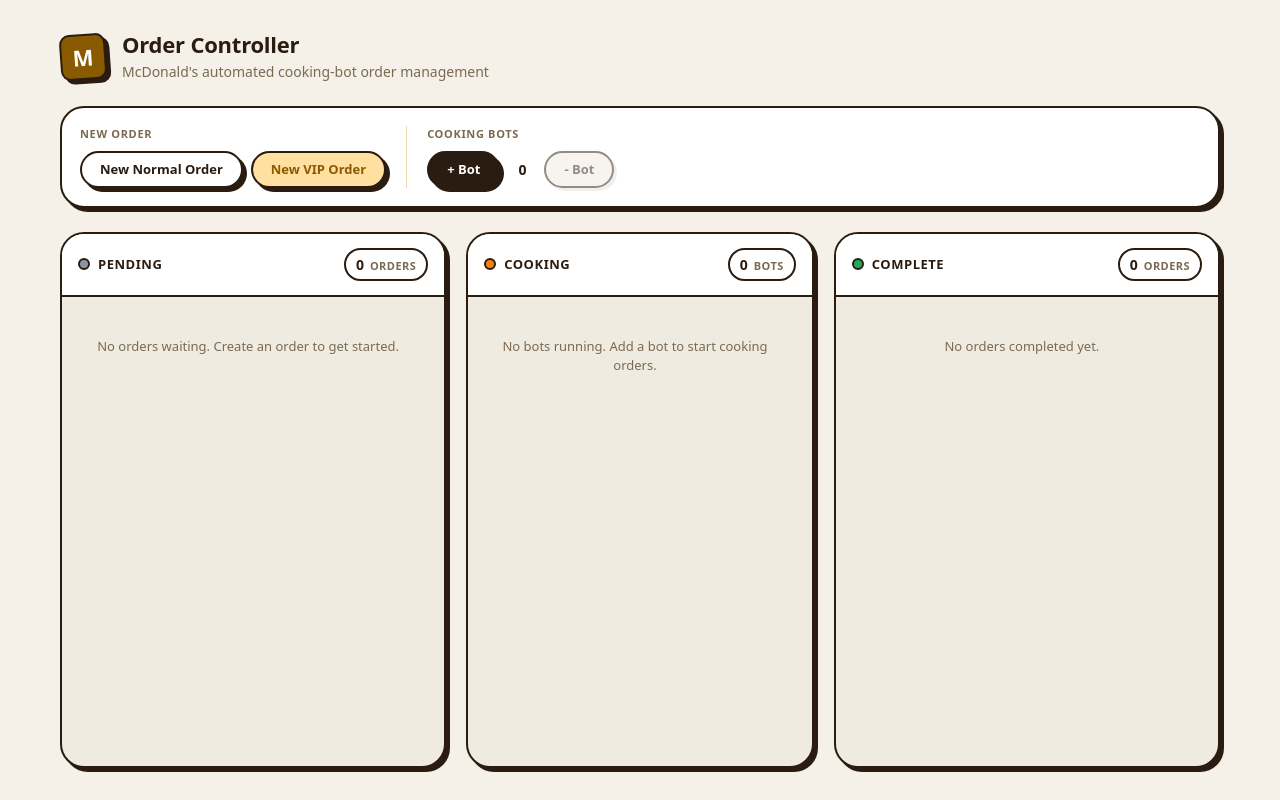
HomePage (end-to-end wiring) › shows a VIP order ahead of an earlier Normal order in PENDING
Click the button "New Normal Order": (161, 169) 80,151 -> 243,188
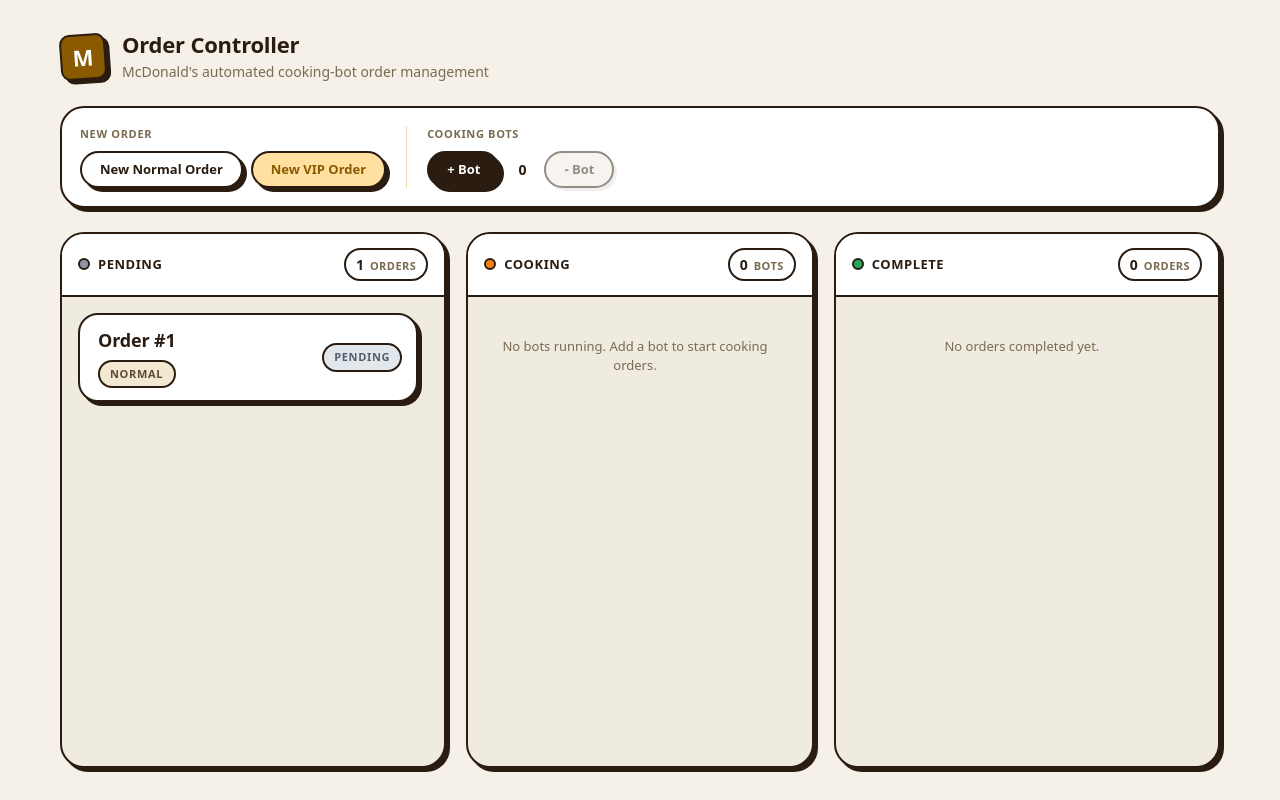
Click the button "New VIP Order": (318, 169) 251,151 -> 386,188
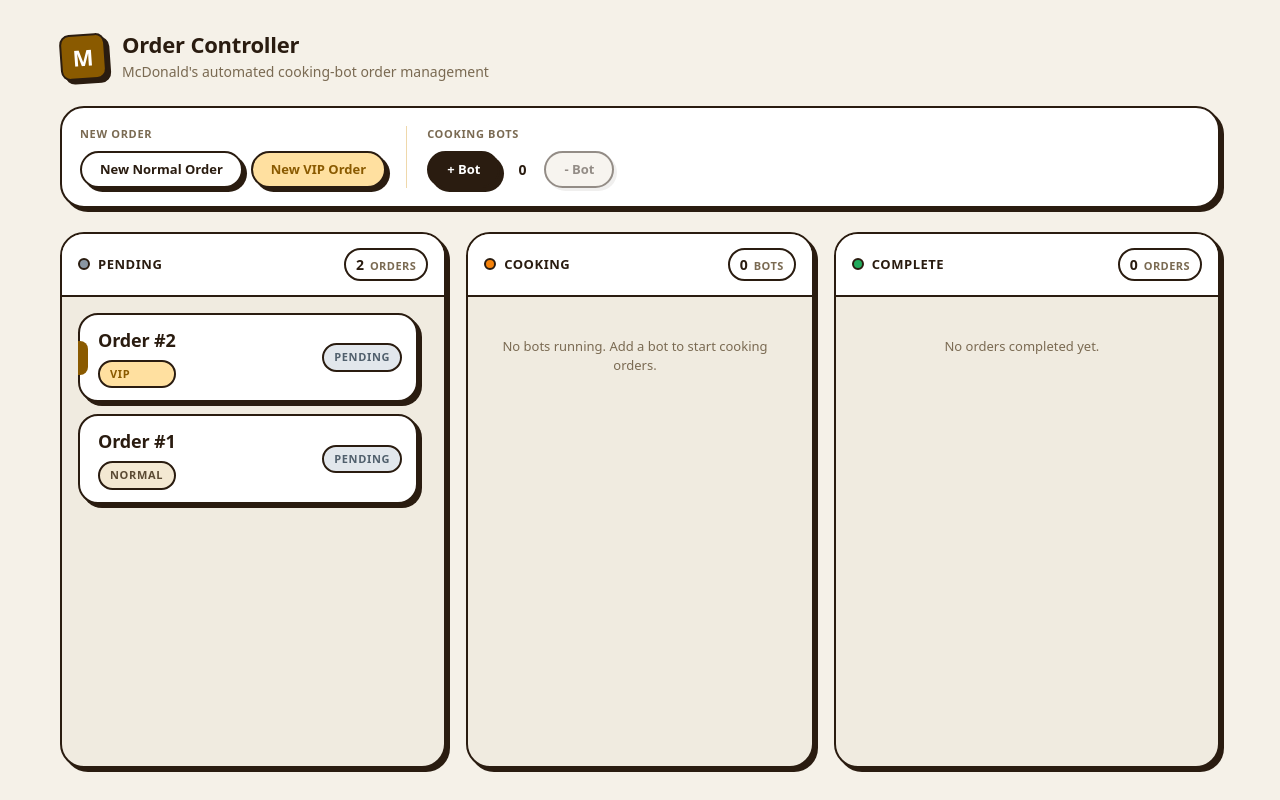
Check: the elements "Order #" read "Order #2", "Order #1", in this order, box 98,327 -> 176,354; 98,428 -> 176,455
